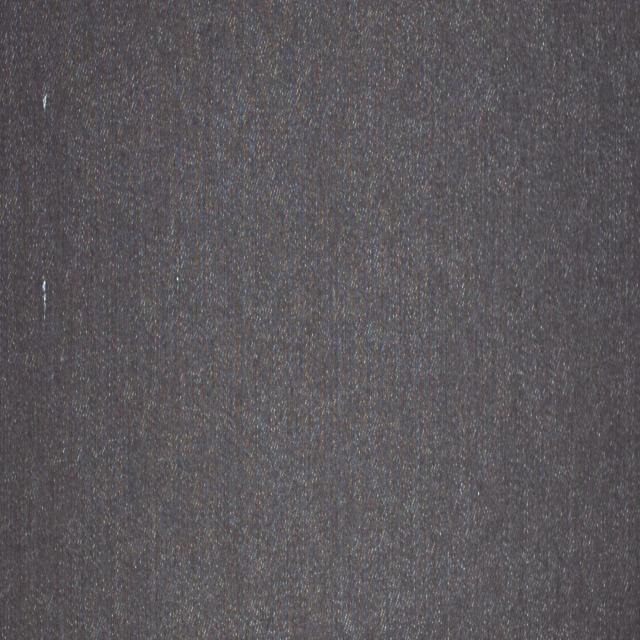Knot: (41, 279, 47, 320), (41, 92, 46, 110)
